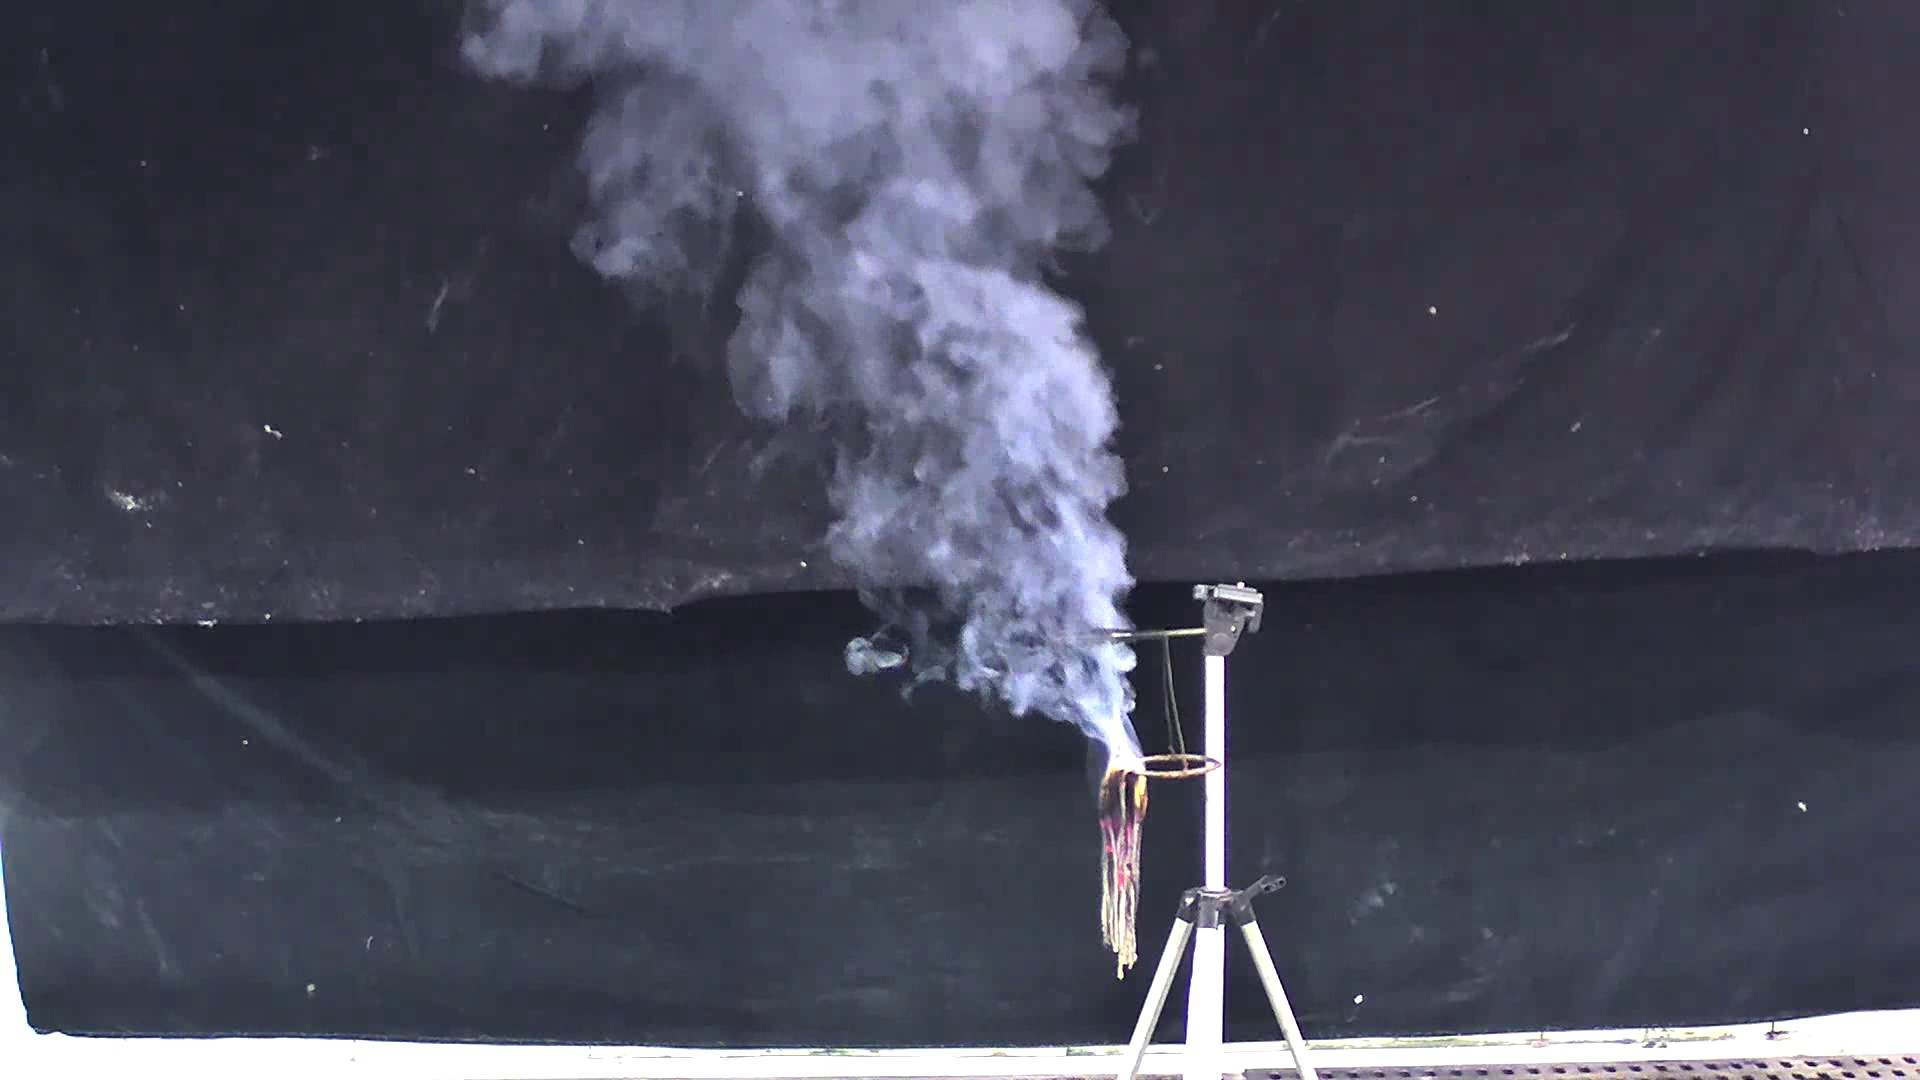smoke: (495, 18, 1158, 767)
